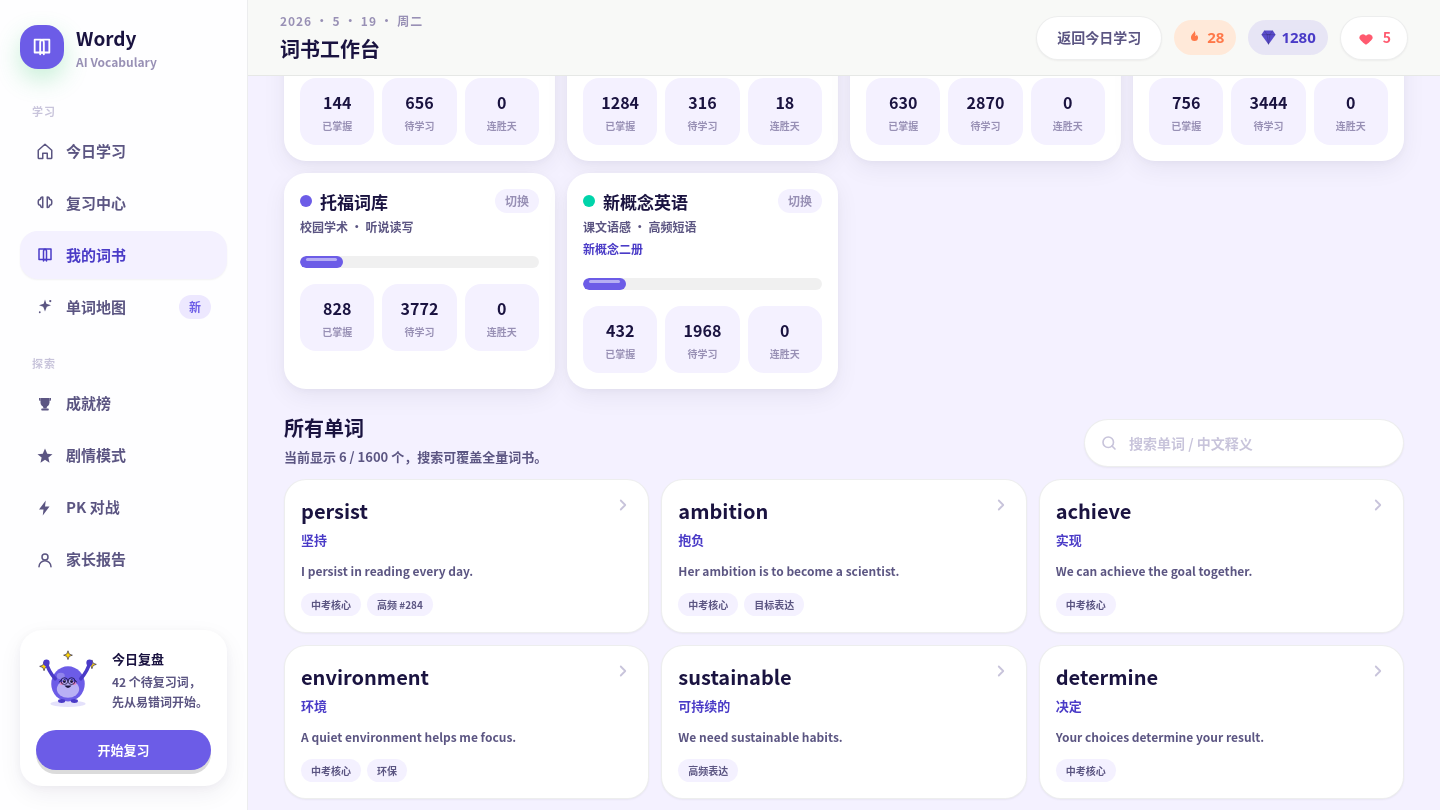
it: DictionaryScreen › filters words by English or Chinese text and opens word detail
Later steps or results of the test are not shown.
(page scrolled)
Type "环境" into the search field with placeholder "搜索单词 / 中文释义".
click(1244, 443); type("环境")  # box [1084,419,1404,467]
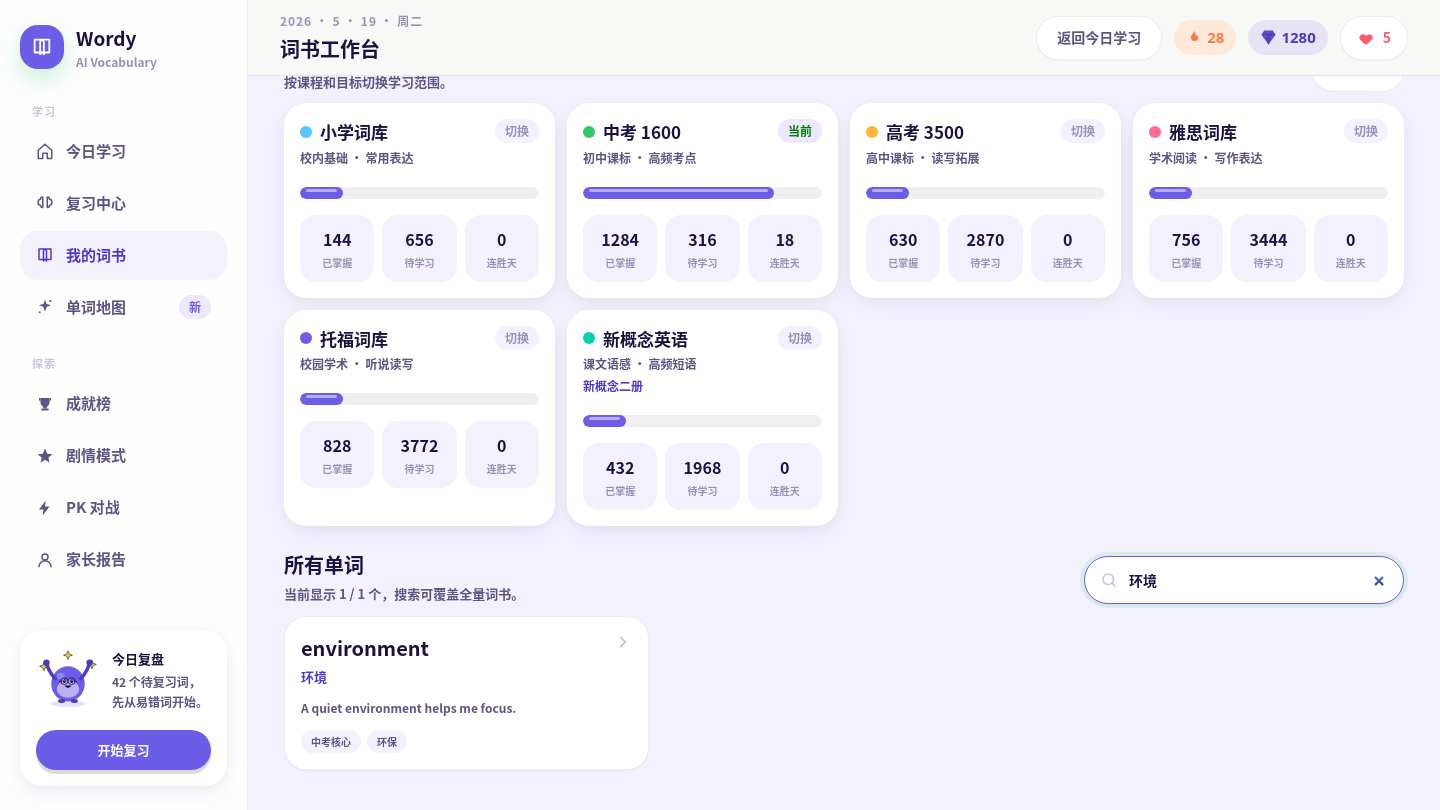
Expected: the button "environment 环境" is shown, [284,616,649,770]
Expected: the button "persist 坚持" is gone
